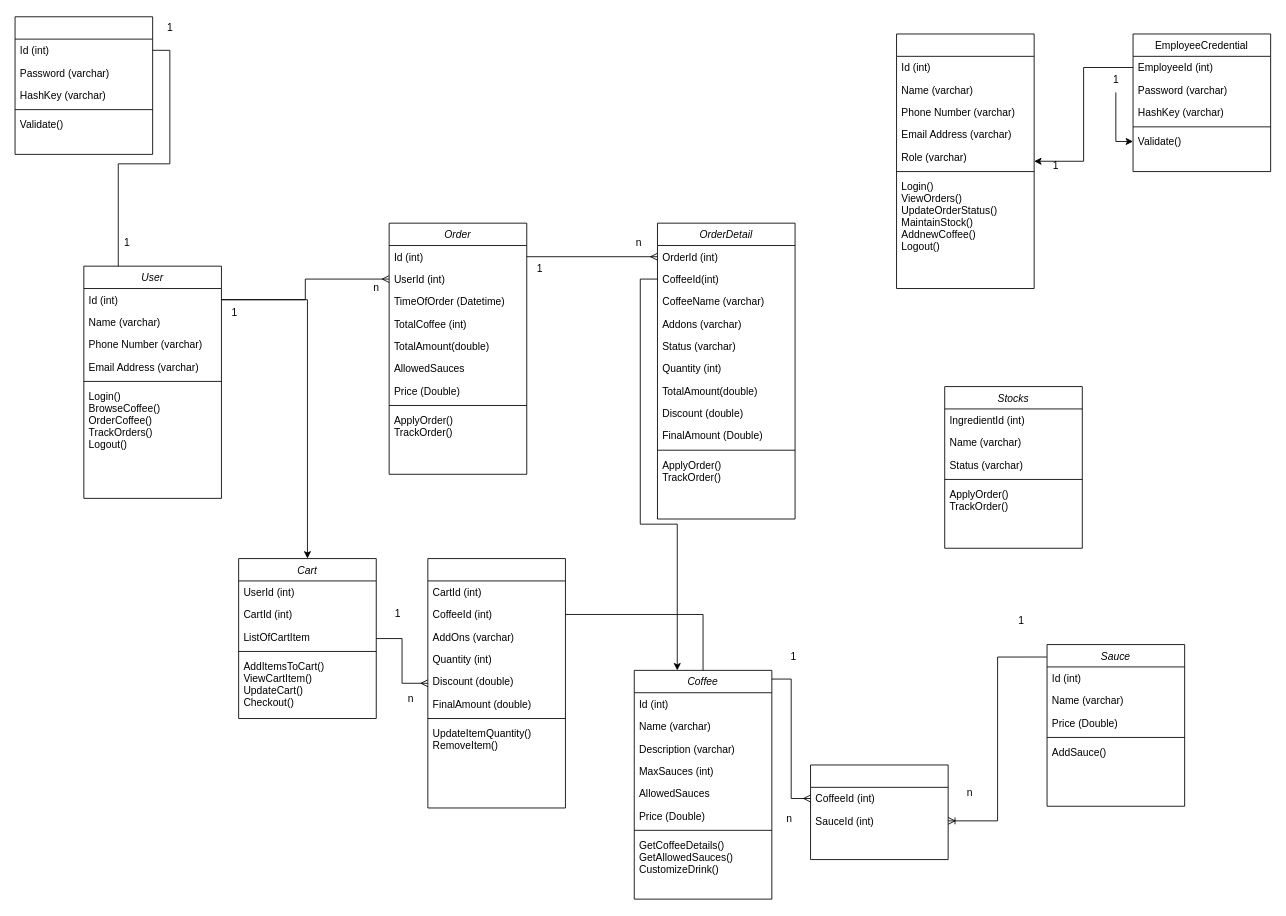
This 1286x916 diagram has some shape labels left out. The shapes that lost their labels are listed below. From the top down, each one's box as (x1, y1, x2, y2) in pixels, then its label:
(14, 16, 153, 154): UserCredential
(896, 33, 1034, 289): Employee
(427, 558, 565, 808): CartItem
(810, 764, 948, 860): CoffeeSauce
